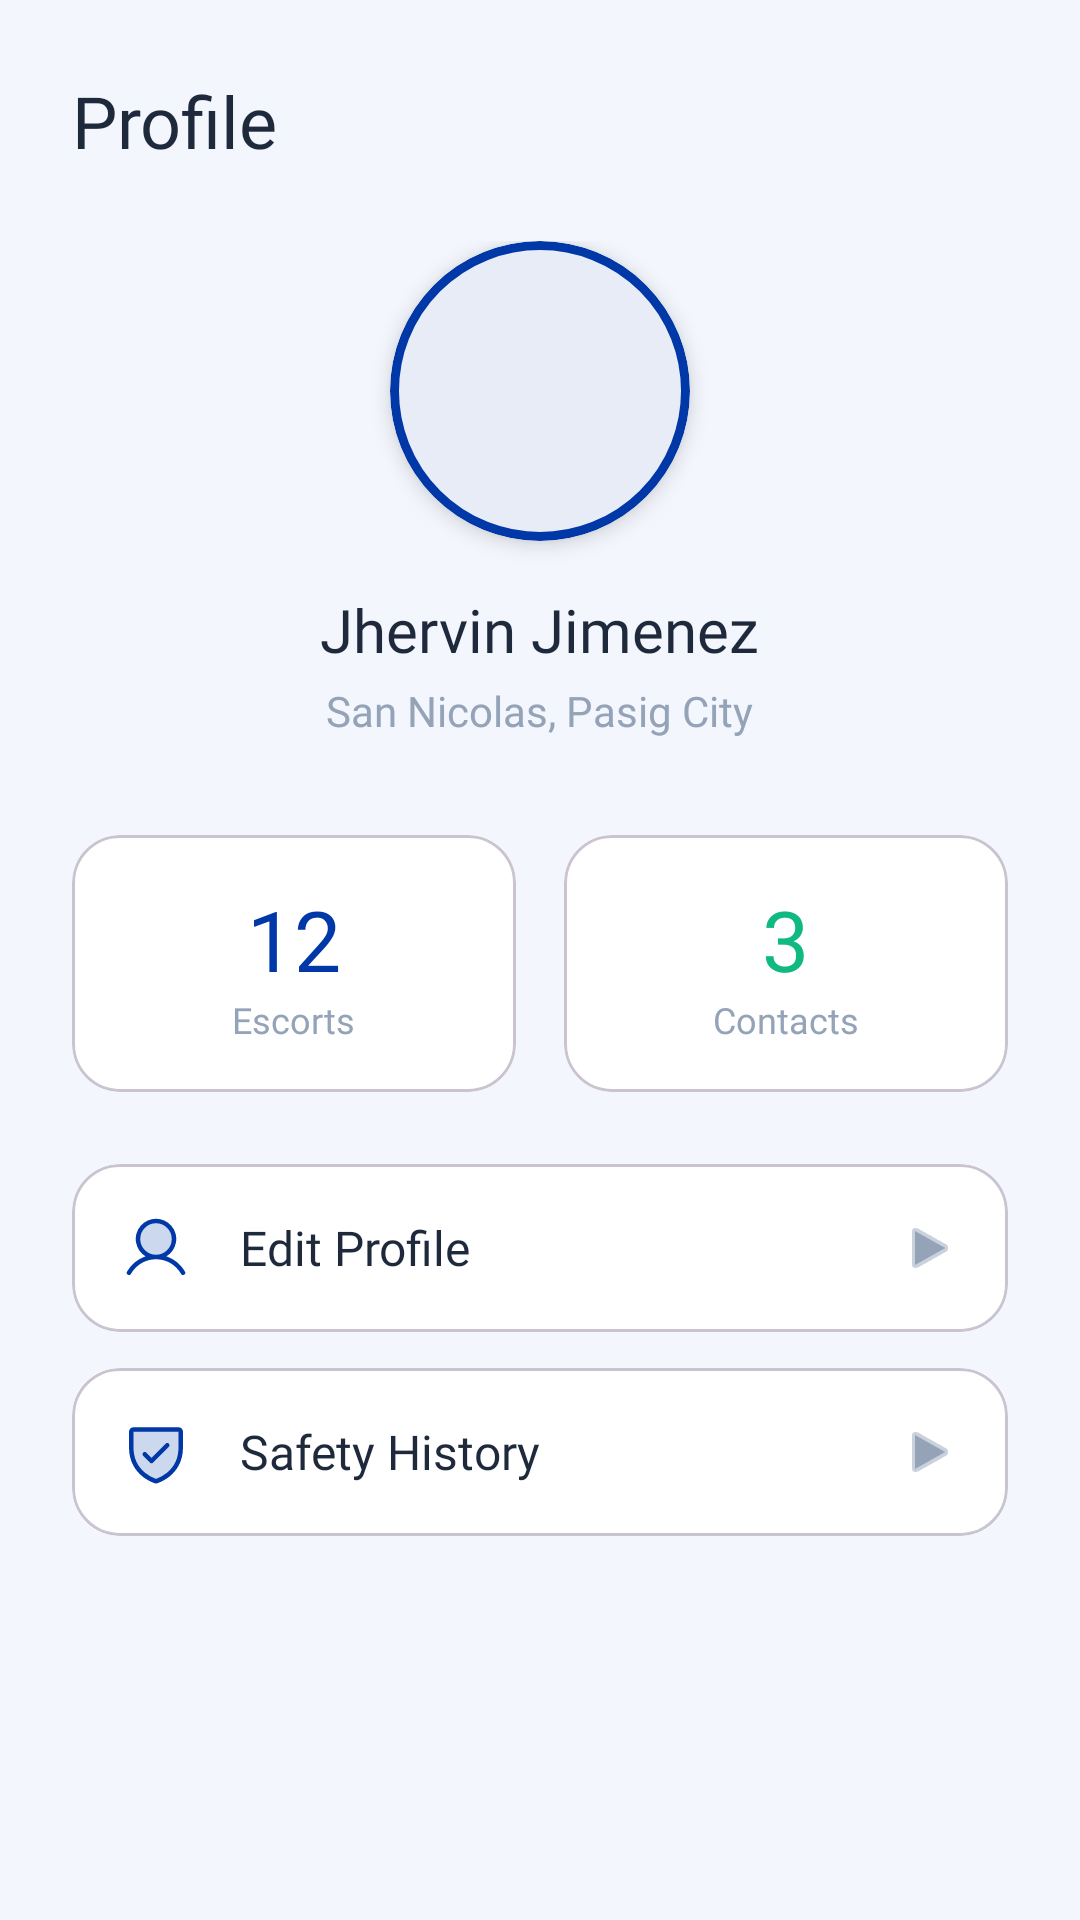

Screen size 1080×1920. Icon name, then its center in pixels as (x=x, y=y):
play: (x=930, y=1248), (x=930, y=1452)
shield check: (x=156, y=1455)
user: (x=156, y=1246)
